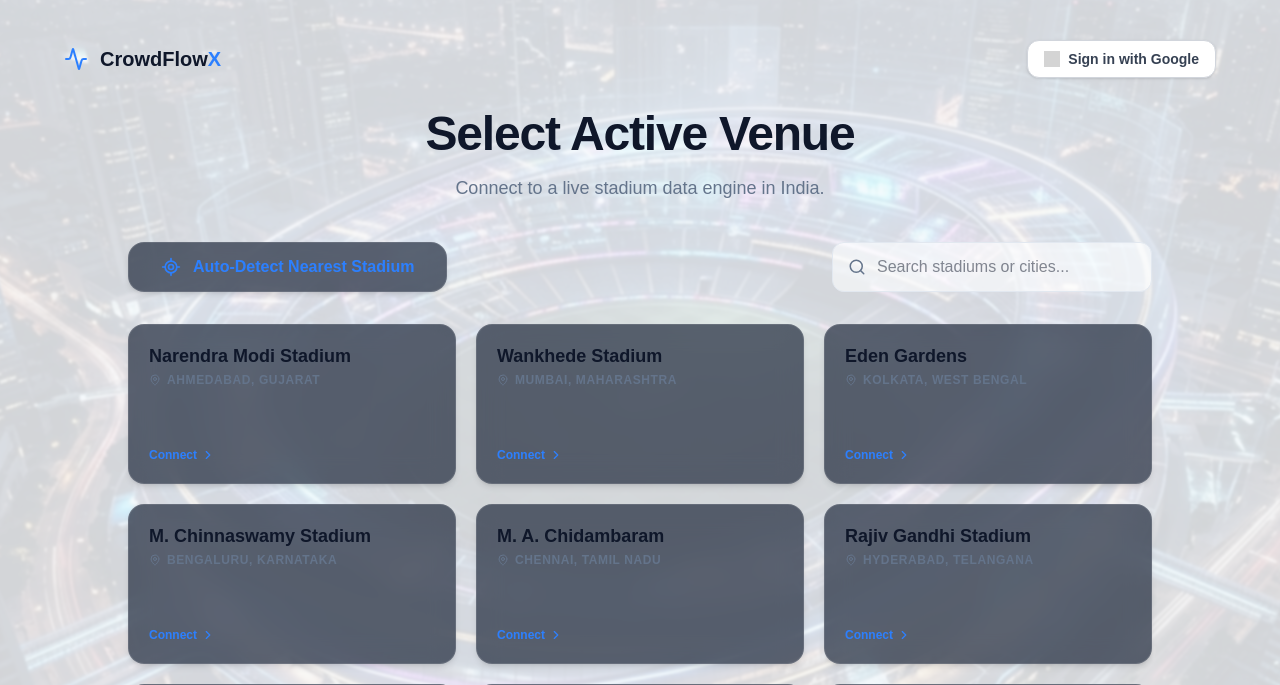
StadiumSelector › shows empty-state message when search yields no results
Type "ZZZ_NO_MATCH_XYZ" into the search field named "Search stadiums by name or city" at (992, 267), box [832,242,1152,292]
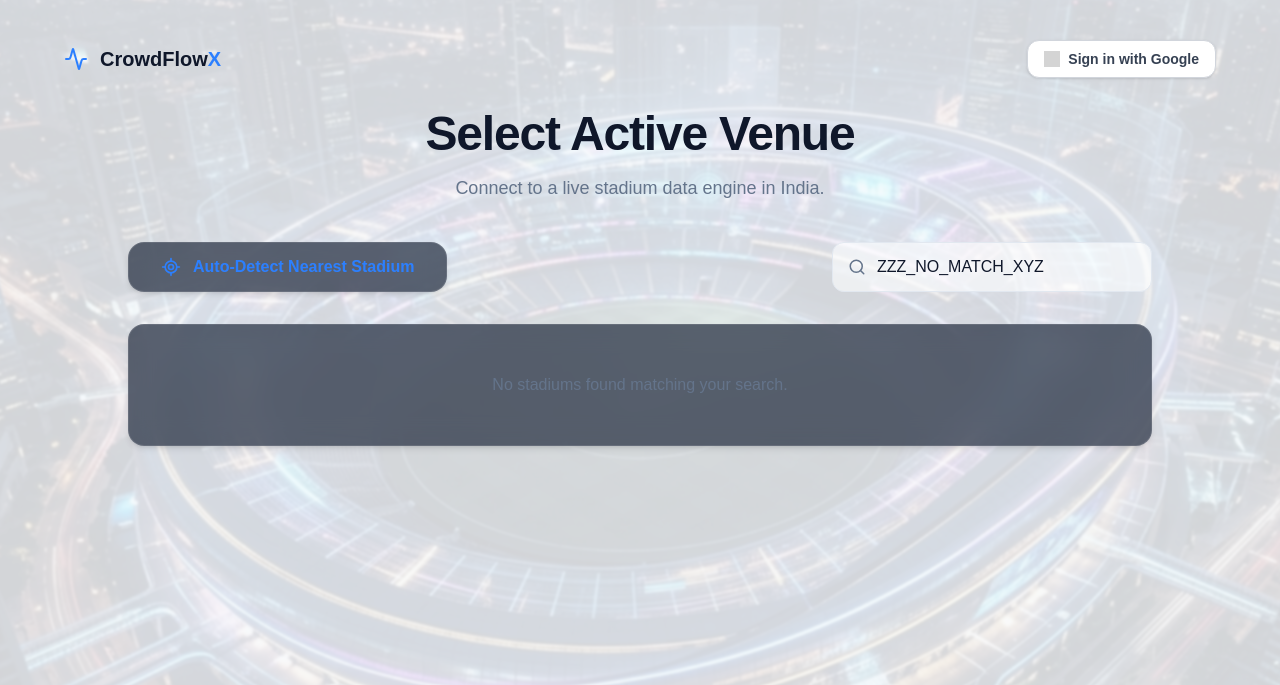
Result: the text "No stadiums found matching your search." is shown at [128,324,1152,446]
